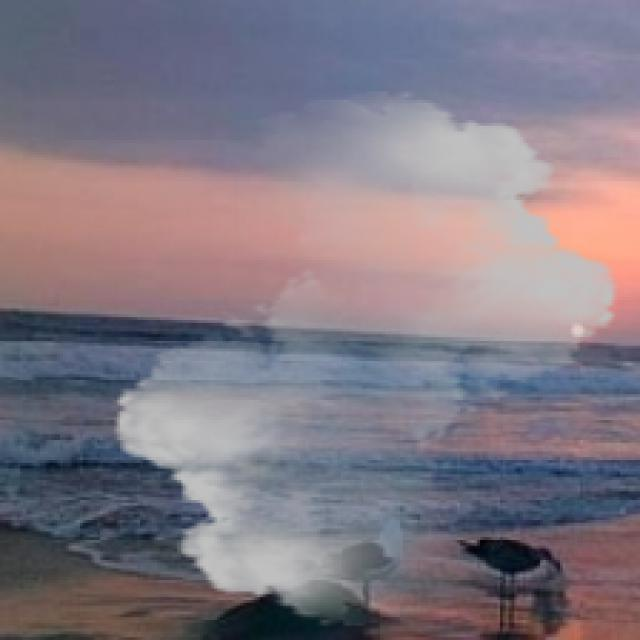Smoke: (97, 91, 634, 626)
